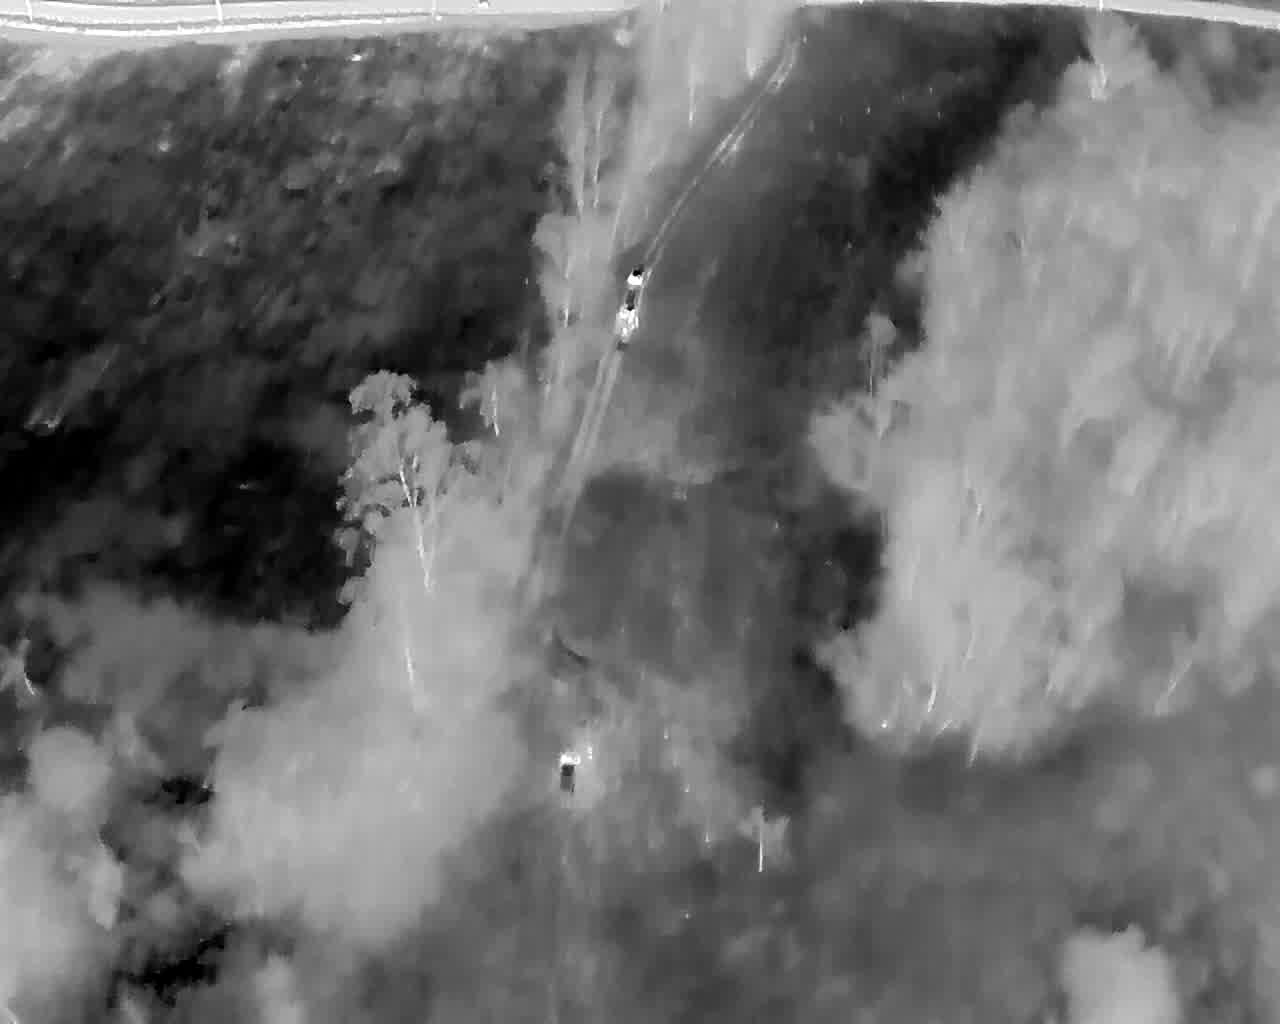car: (322, 309, 376, 394), (330, 416, 369, 511)
person: (351, 527, 367, 542), (350, 541, 369, 554)
